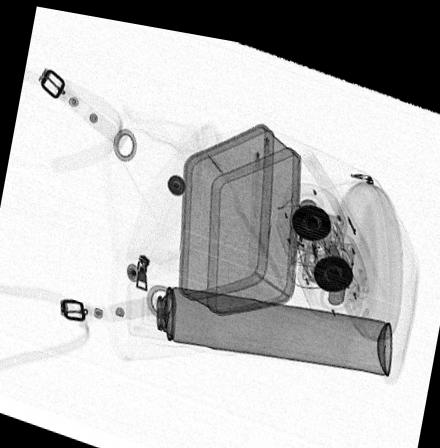Sprayer: (126, 275, 392, 363)
